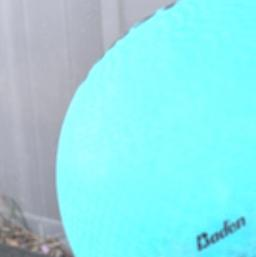algae: (55, 0, 256, 257)
